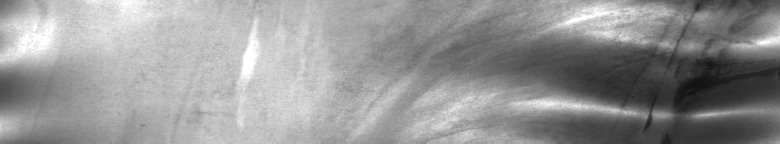ke: (437, 4, 776, 136)
